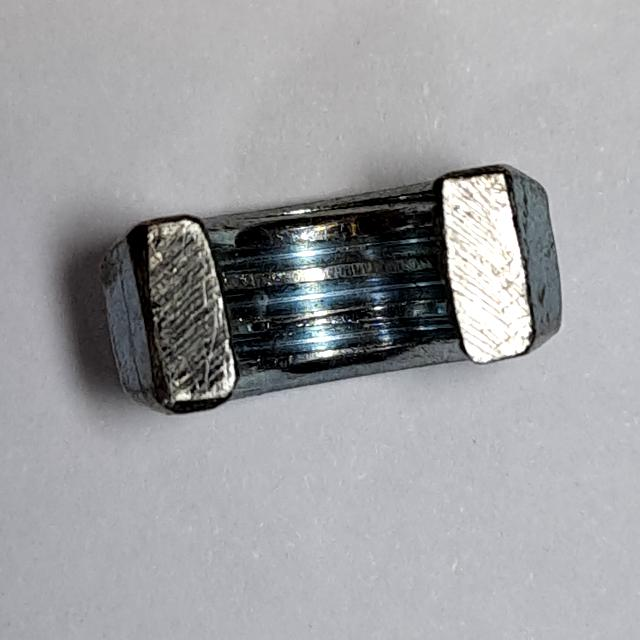Side-Fracture: (87, 158, 578, 427)
